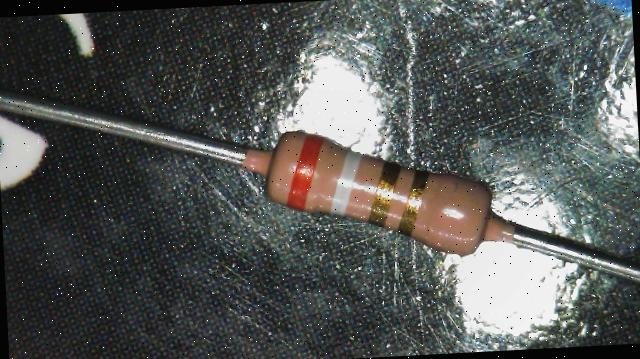gold: (366, 160, 404, 226), (397, 171, 433, 231)
orange: (284, 134, 327, 209)
resistor: (247, 115, 518, 269)
white: (328, 150, 363, 216)
